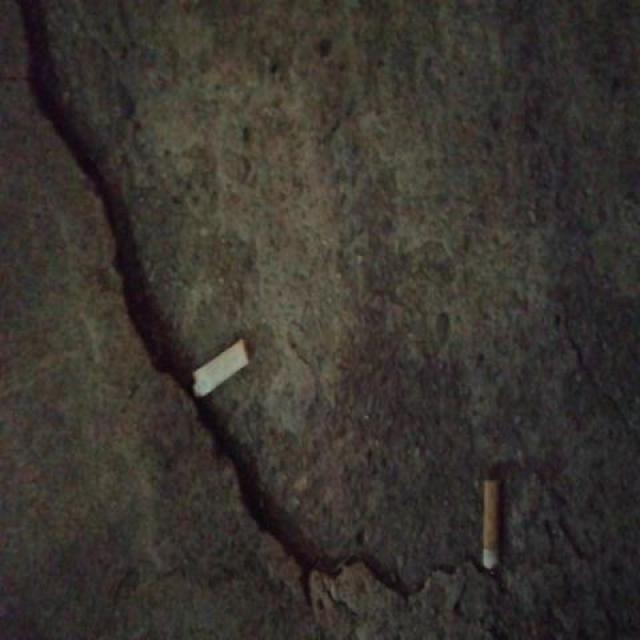non-organic waste: (186, 329, 253, 403), (479, 474, 502, 575)
